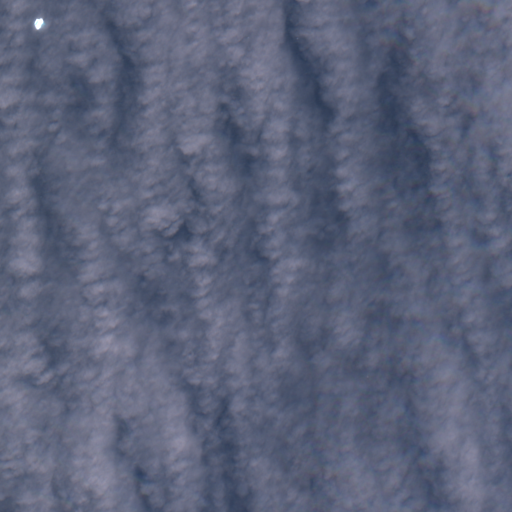Iceberg: (34, 18, 44, 30)
